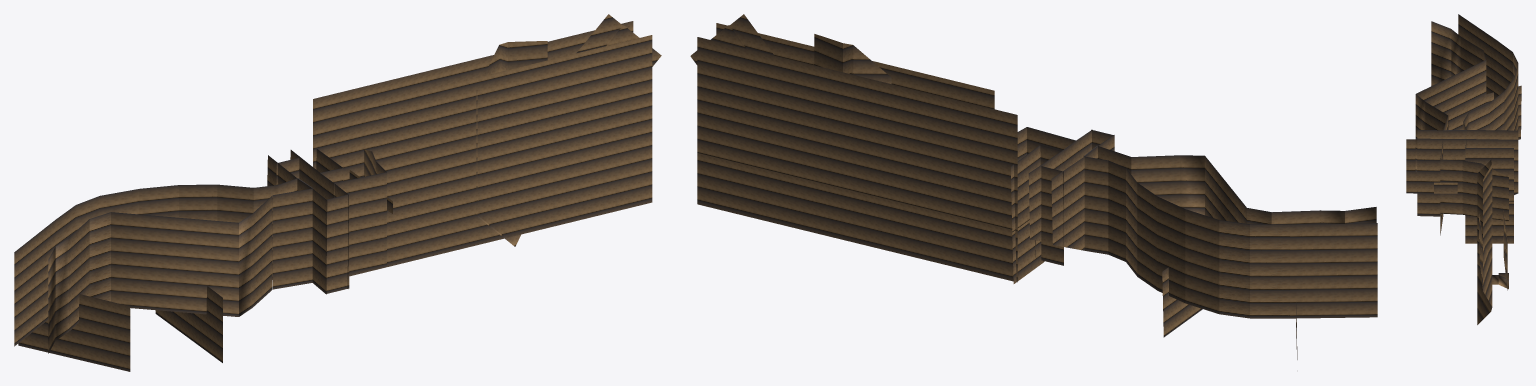
File: NivelIce.fbx
The picture shows the model from 3 angles, left to right: view 1: azimuth 30°, elevation 25°; view 2: azimuth 150°, elevation 25°; view 3: azimuth 270°, elevation 25°; orthographic projection. The views are drawn at different scales.
Visible parts, largest first — view 1: walls; view 2: walls; view 3: walls.
Boxes of the visible parts, x1=… form: walls: x1=14, y1=14, x2=661, y2=371; walls: x1=690, y1=14, x2=1377, y2=359; walls: x1=1406, y1=14, x2=1521, y2=324.
Size of the model in its own units: 37504 by 10914 by 6888.
